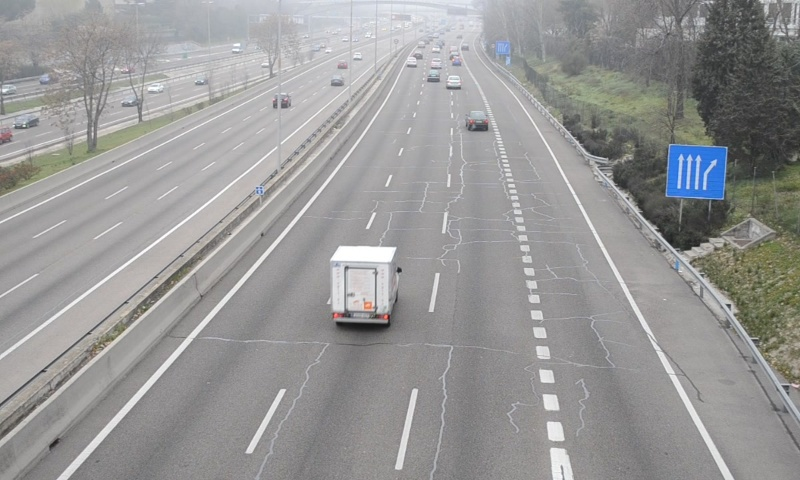car: (466, 109, 490, 130)
small-truck: (329, 246, 401, 324)
